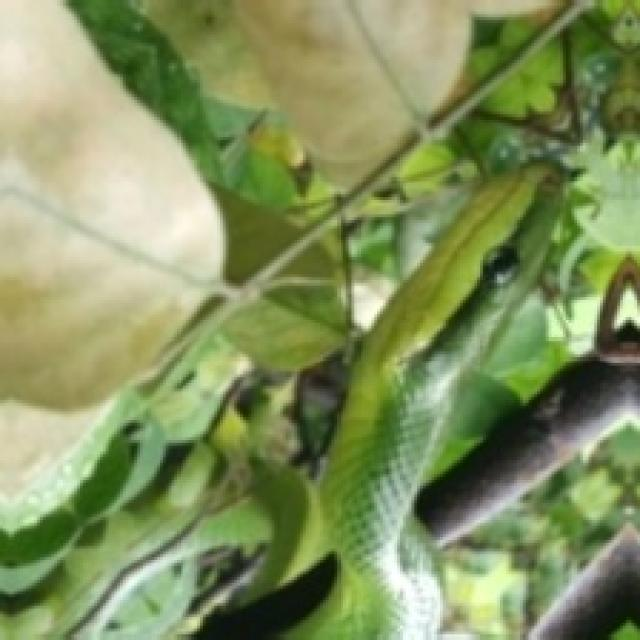red-tailed green ratsnake: (248, 165, 560, 640)
